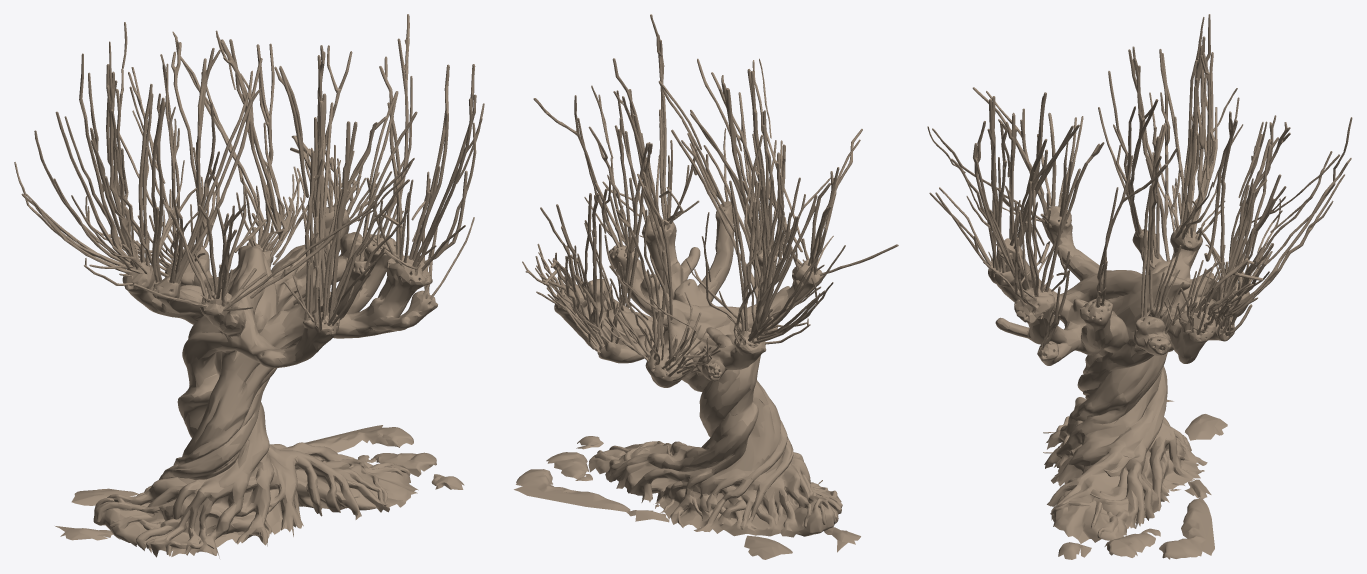
Rendered from willow.hq.glb.
The picture shows the model from 3 angles, left to right: view 1: azimuth 30°, elevation 25°; view 2: azimuth 150°, elevation 25°; view 3: azimuth 270°, elevation 25°; orthographic projection. The views are drawn at different scales.
Parts seen in each view (by area): view 1: placed; view 2: placed; view 3: placed.
Boxes of the visible parts, box(x1,y1,x2,y2) form: placed: box(14, 14, 484, 558); placed: box(514, 14, 898, 559); placed: box(927, 14, 1352, 559).
Bounding box in the file's own units: 13.34 × 16.13 × 14.52.
